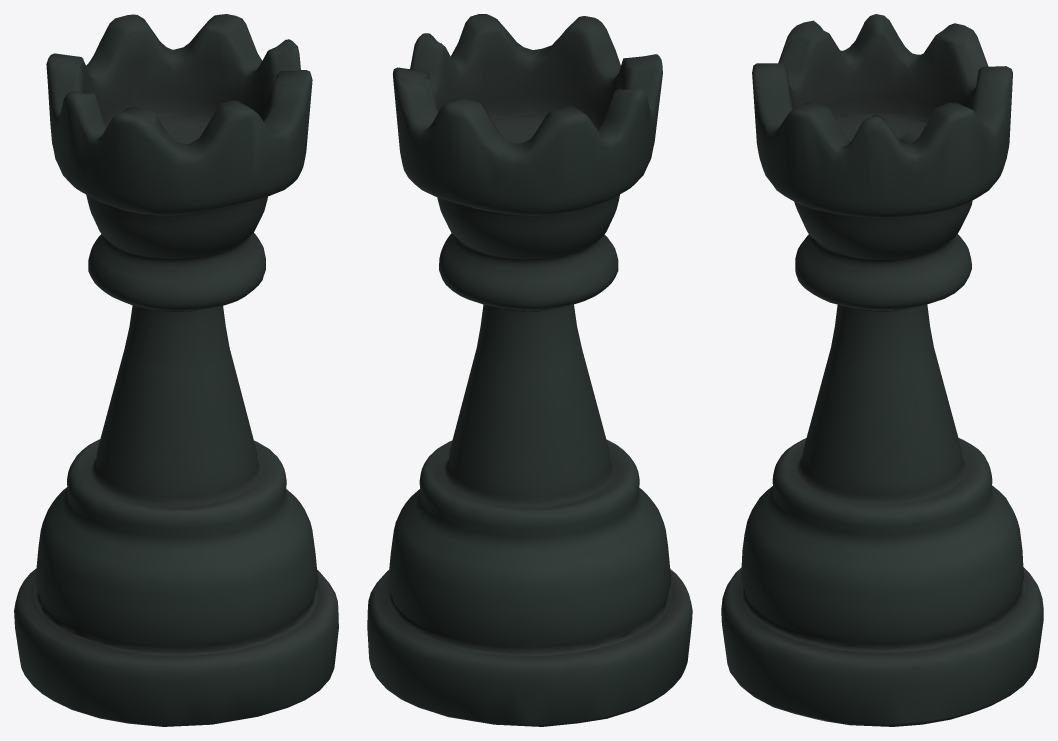
File: Chess.glb
3 views of the same model, side by side, from view 1: azimuth 30°, elevation 25°; view 2: azimuth 150°, elevation 25°; view 3: azimuth 270°, elevation 25° (orthographic).
Visible parts, largest first — view 1: material.003, material.023; view 2: material.003, material.023; view 3: material.003, material.023.
Boxes of the visible parts, <box> form: material.003: <box>14,305,338,726</box>; material.023: <box>46,14,312,311</box>; material.003: <box>367,304,692,726</box>; material.023: <box>392,14,662,311</box>; material.003: <box>721,304,1043,726</box>; material.023: <box>752,14,1012,311</box>.
Size of the model in its own units: 0.9197 by 1.87 by 0.9197.
1 material, 1 textured.
